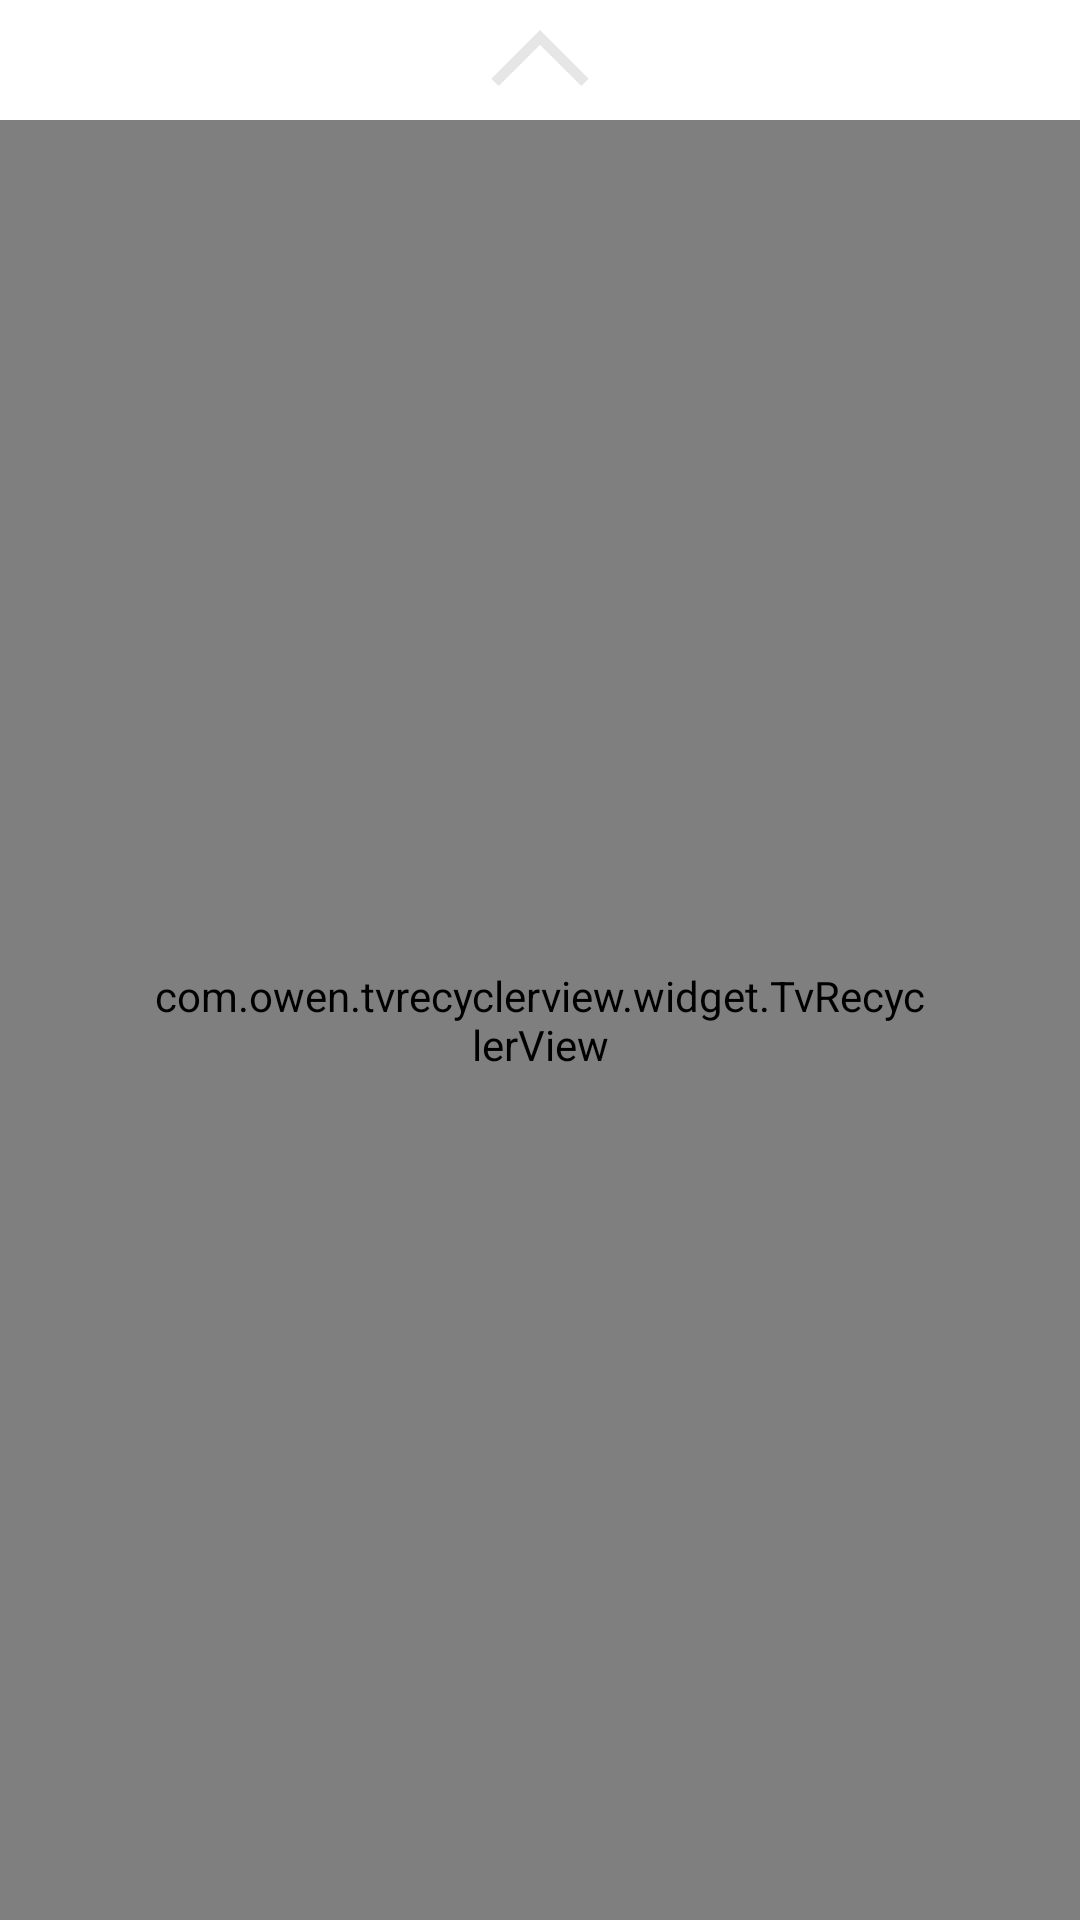

Named icons in this screenshot (1080*1920) and their bounding boxes, (x1=x1, y1=y1, x2=x2, y2=y2):
home up: (x1=492, y1=31, x2=588, y2=85)
